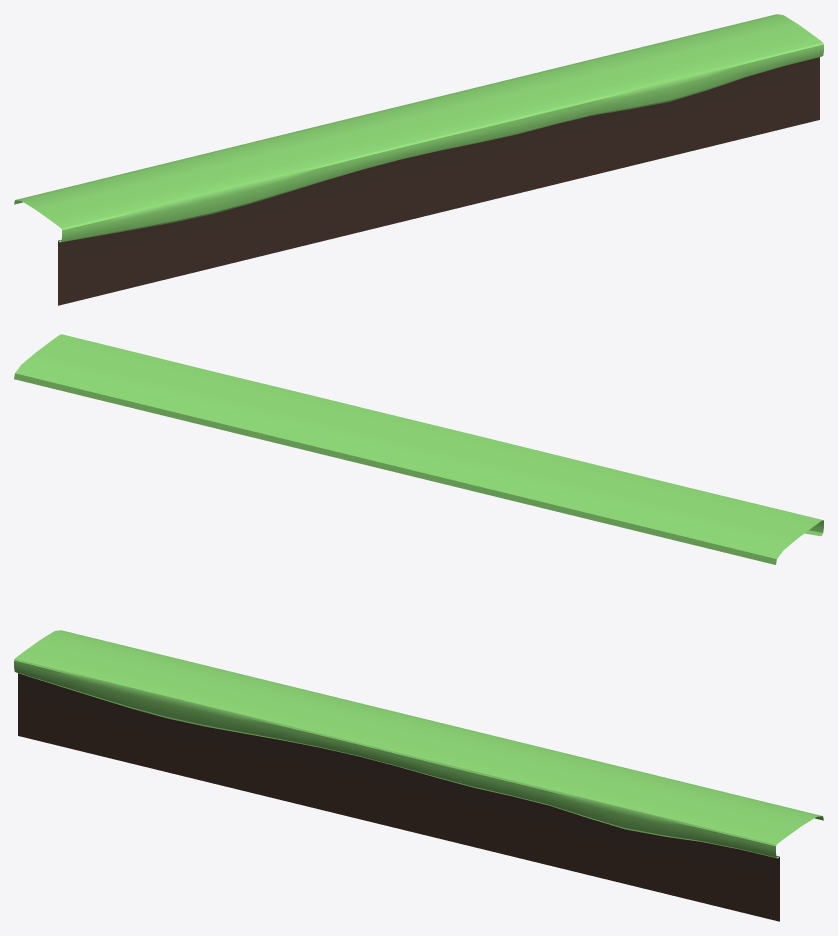
The model's file is GroundEdge.fbx.
The picture shows the model from 3 angles, top to bottom: view 1: azimuth 30°, elevation 25°; view 2: azimuth 150°, elevation 25°; view 3: azimuth 330°, elevation 25°; orthographic projection.
Visible parts, largest first — view 1: GroundEdge; view 2: GroundEdge; view 3: GroundEdge.
Part boxes in pixels (<box>): GroundEdge: <box>14,14,823,305</box>; GroundEdge: <box>14,334,823,564</box>; GroundEdge: <box>14,630,823,921</box>.
Size of the model in its own units: 10 by 1 by 1.09.
